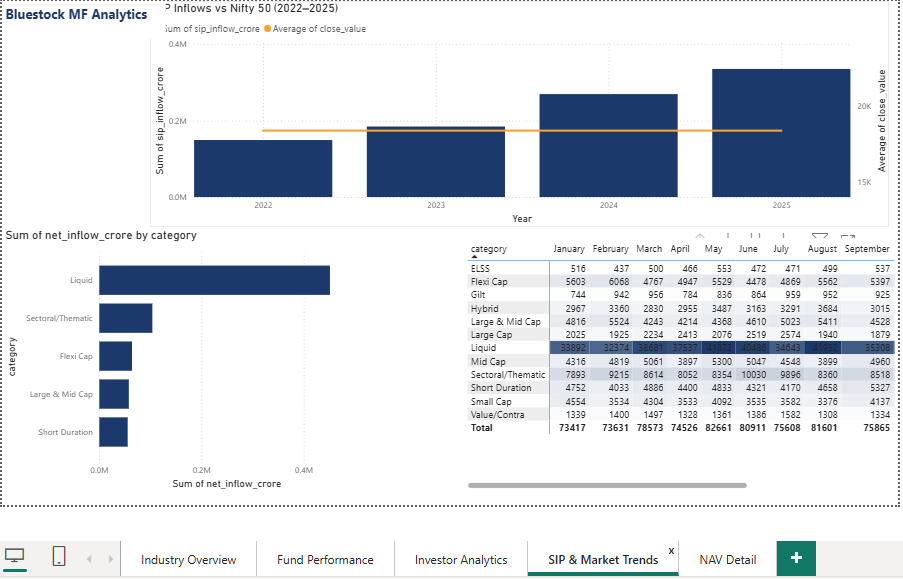

The dashboard page shown, as its layout file describes it:
{"tool":"powerbi","page":{"name":"SIP & Market Trends","canvas":[1280,720],"ordinal":3},"visuals":[{"type":"lineStackedColumnComboChart","title":"SIP Inflows vs Nifty 50 (2022–2025)","fields":{"Category":["SIP.month.Variation.Date Hierarchy.Year","SIP.month.Variation.Date Hierarchy.Quarter","SIP.month.Variation.Date Hierarchy.Month","SIP.month.Variation.Date Hierarchy.Day"],"Y2":["Avg(Benchmark.close_value)"],"Y":["Sum(SIP.sip_inflow_crore)"]},"box":[210.7,0,1056.6,323.4],"z":0},{"type":"pivotTable","fields":{"Rows":["Category.category"],"Columns":["Category.month.Variation.Date Hierarchy.Year","Category.month.Variation.Date Hierarchy.Quarter","Category.month.Variation.Date Hierarchy.Month","Category.month.Variation.Date Hierarchy.Day"],"Values":["Sum(Category.net_inflow_crore)"]},"box":[660,338,620.5,362.9],"z":1000},{"type":"clusteredBarChart","fields":{"Category":["Category.category"],"Y":["Sum(Category.net_inflow_crore)"]},"box":[0,324.1,523.1,377.6],"z":2000},{"type":"textbox","box":[0,0,234.1,54.1],"z":3000}]}

Visuals, with their boxes on the page's 1280x720 design canvas (x1, y1, x2, y2). These are canvas units, not pixel positions in the 903x579 screenshot, which may show the page scaled, cropped or inside an application window:
"SIP Inflows vs Nifty 50 (2022–2025)" lineStackedColumnComboChart: rect(211, 0, 1267, 323)
pivotTable - Category.category x Category.month.Variation.Date Hierarchy.Year: rect(660, 338, 1280, 701)
clusteredBarChart - Category.category x Sum(Category.net_inflow_crore): rect(0, 324, 523, 702)
textbox: rect(0, 0, 234, 54)
